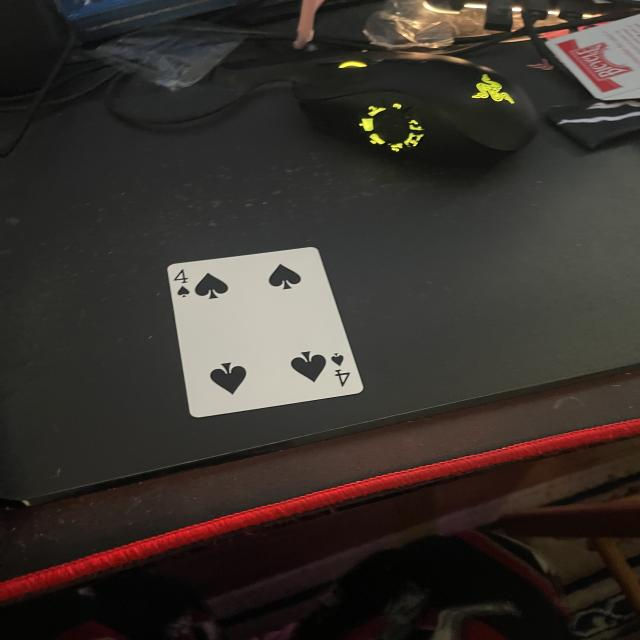4 of spades: (167, 248, 367, 421)
